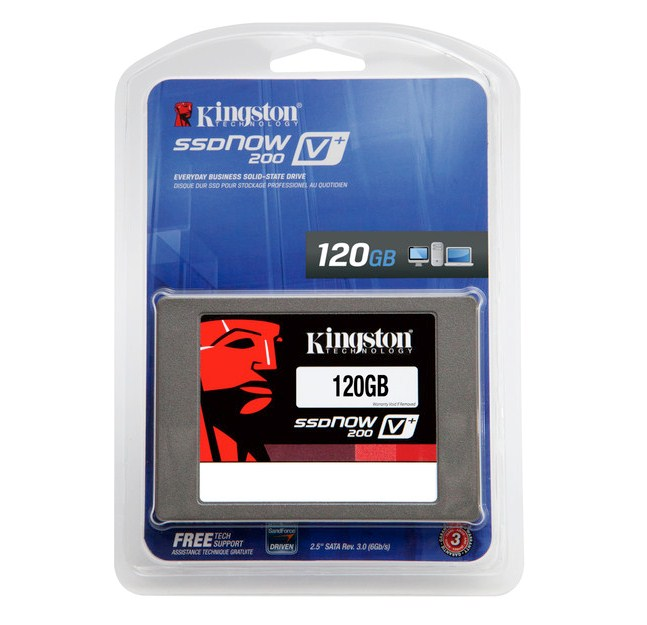Kingston: (190, 309, 288, 468), (166, 95, 307, 133), (290, 319, 423, 359)
